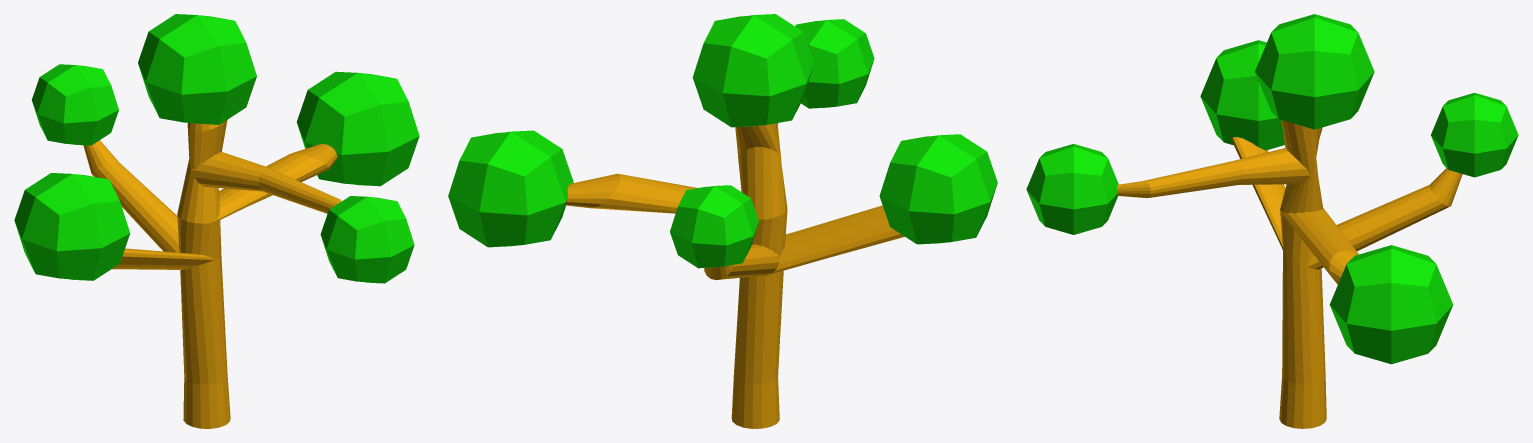
The model's file is tree2.fbx.
3 renders of one model, left to right at view 1: azimuth 30°, elevation 25°; view 2: azimuth 150°, elevation 25°; view 3: azimuth 270°, elevation 25°, orthographic. The views are drawn at different scales.
Parts seen in each view (by area): view 1: Balls, Trunk; view 2: Balls, Trunk; view 3: Balls, Trunk.
Boxes of the visible parts, <box> form: Balls: <box>14,14,419,283</box>; Trunk: <box>83,120,341,428</box>; Balls: <box>448,14,997,268</box>; Trunk: <box>565,123,904,428</box>; Balls: <box>1026,14,1518,364</box>; Trunk: <box>1117,120,1462,428</box>.
Bounding box in the file's own units: 2219 × 1860 × 2076.
